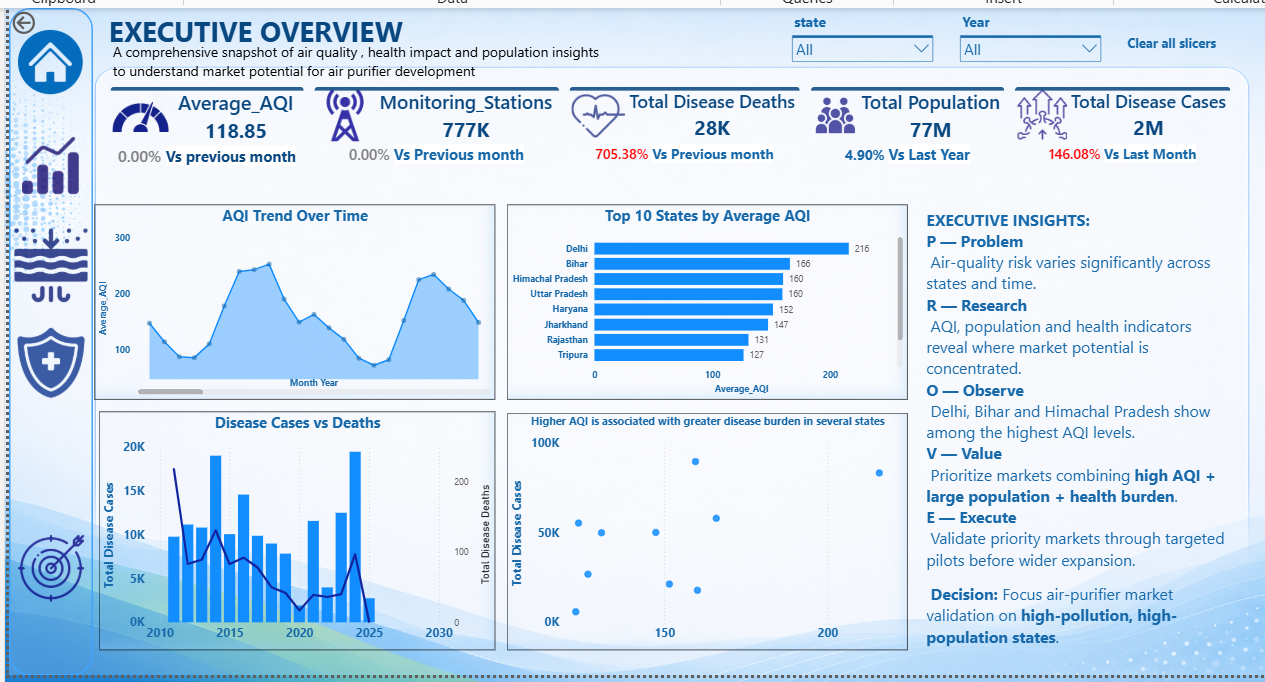

The dashboard page shown, as its layout file describes it:
{"tool":"powerbi","page":{"name":"Executive Overview","canvas":[1700,900],"ordinal":1},"visuals":[{"type":"shape","box":[0,0,113.3,900.7],"z":0},{"type":"image","box":[12.1,20.2,87,105.2],"z":1000},{"type":"image","box":[12.1,158.9,87,105.2],"z":2000},{"type":"image","box":[0,297.5,113.3,99.2],"z":3000},{"type":"image","box":[0,430.1,113.3,99.2],"z":4000},{"type":"image","box":[0,706.4,113.3,99.2],"z":5000},{"type":"textbox","box":[129.5,0,485.8,72.9],"z":6000},{"type":"textbox","box":[113.3,46.6,777.2,52.6],"z":7000},{"type":"cardVisual","fields":{"Data":["_Measures.Average_AQI"]},"box":[129.5,99.2,275.3,166],"z":8000},{"type":"cardVisual","fields":{"Data":["_Measures.Monitoring_Stations"]},"box":[404.8,99.2,344.1,166],"z":9000},{"type":"cardVisual","fields":{"Data":["_Measures.Total Disease Deaths"]},"box":[748.9,99.2,325.9,166],"z":10000},{"type":"cardVisual","fields":{"Data":["_Measures.Total Population"]},"box":[1074.8,99.2,275.3,166],"z":11000},{"type":"cardVisual","fields":{"Data":["_Measures.Total Disease Cases"]},"box":[1350,99.2,305.6,166],"z":12000},{"type":"actionButton","box":[1503.9,20.2,133.6,50.6],"z":13000},{"type":"areaChart","title":"AQI Trend Over Time","fields":{"Category":["Dim_date.Month Year"],"Y":["_Measures.Average_AQI"]},"box":[115.4,265.1,540.4,263.1],"z":14000},{"type":"clusteredBarChart","title":"Top 10 States by Average AQI","fields":{"Y":["_Measures.Average_AQI"],"Category":["Dim_State.state"]},"box":[672,265.1,540.4,263.1],"z":15000},{"type":"lineClusteredColumnComboChart","title":"Disease Cases vs Deaths","fields":{"Category":["Dim_date.Year"],"Y2":["_Measures.Total Disease Deaths"],"Y":["_Measures.Total Disease Cases"]},"box":[121.4,544.5,534.3,321.8],"z":16000},{"type":"scatterChart","title":"Higher AQI is associated with greater disease burden in several states","fields":{"X":["_Measures.Average_AQI"],"Y":["_Measures.Total Disease Cases"],"Category":["Dim_State.state"]},"box":[672,546.5,540.4,319.8],"z":17000},{"type":"actionButton","box":[0,0,100,40],"z":18000},{"type":"slicer","fields":{"Values":["Dim_Month.Year"]},"box":[1273.1,0,210.5,72.9],"z":19000},{"type":"slicer","fields":{"Values":["Dim_State.state"]},"box":[1046.4,0,210.5,72.9],"z":20000},{"type":"textbox","box":[1232.6,265.1,423,601.1],"z":21000}]}

Visuals, with their boxes on the page's 1700x900 design canvas (x1, y1, x2, y2). These are canvas units, not pixel positions in the 1265x682 screenshot, which may show the page scaled, cropped or inside an application window:
shape: bbox=(0, 0, 113, 901)
image: bbox=(12, 20, 99, 125)
image: bbox=(12, 159, 99, 264)
image: bbox=(0, 298, 113, 397)
image: bbox=(0, 430, 113, 529)
image: bbox=(0, 706, 113, 806)
textbox: bbox=(130, 0, 615, 73)
textbox: bbox=(113, 47, 890, 99)
cardVisual - _Measures.Average_AQI: bbox=(130, 99, 405, 265)
cardVisual - _Measures.Monitoring_Stations: bbox=(405, 99, 749, 265)
cardVisual - _Measures.Total Disease Deaths: bbox=(749, 99, 1075, 265)
cardVisual - _Measures.Total Population: bbox=(1075, 99, 1350, 265)
cardVisual - _Measures.Total Disease Cases: bbox=(1350, 99, 1656, 265)
actionButton: bbox=(1504, 20, 1638, 71)
"AQI Trend Over Time" areaChart: bbox=(115, 265, 656, 528)
"Top 10 States by Average AQI" clusteredBarChart: bbox=(672, 265, 1212, 528)
"Disease Cases vs Deaths" lineClusteredColumnComboChart: bbox=(121, 544, 656, 866)
"Higher AQI is associated with greater disease burden in several states" scatterChart: bbox=(672, 546, 1212, 866)
actionButton: bbox=(0, 0, 100, 40)
slicer - Dim_Month.Year: bbox=(1273, 0, 1484, 73)
slicer - Dim_State.state: bbox=(1046, 0, 1257, 73)
textbox: bbox=(1233, 265, 1656, 866)
